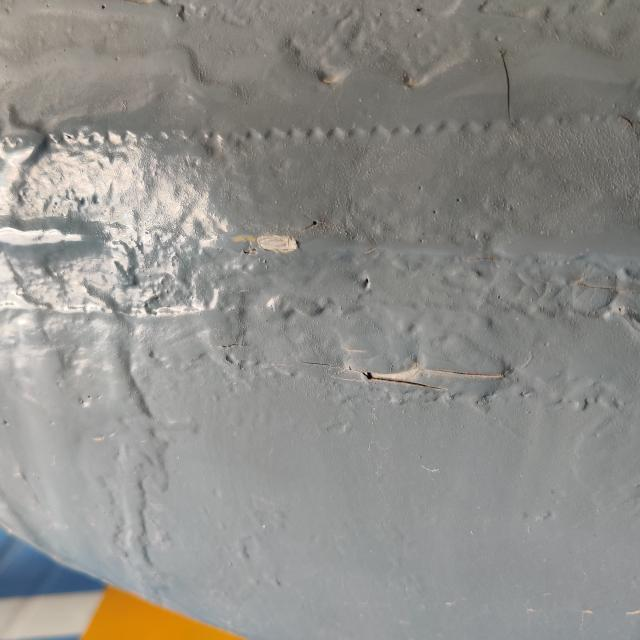Crack: (348, 350, 514, 405)
